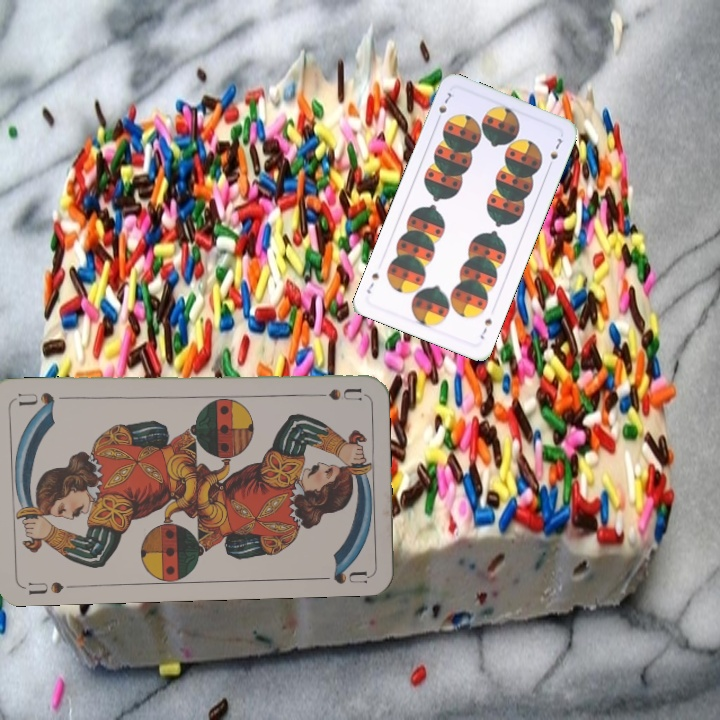S7: (432, 88, 454, 125), (476, 315, 495, 342)
SU: (304, 383, 363, 402), (24, 578, 79, 597)
